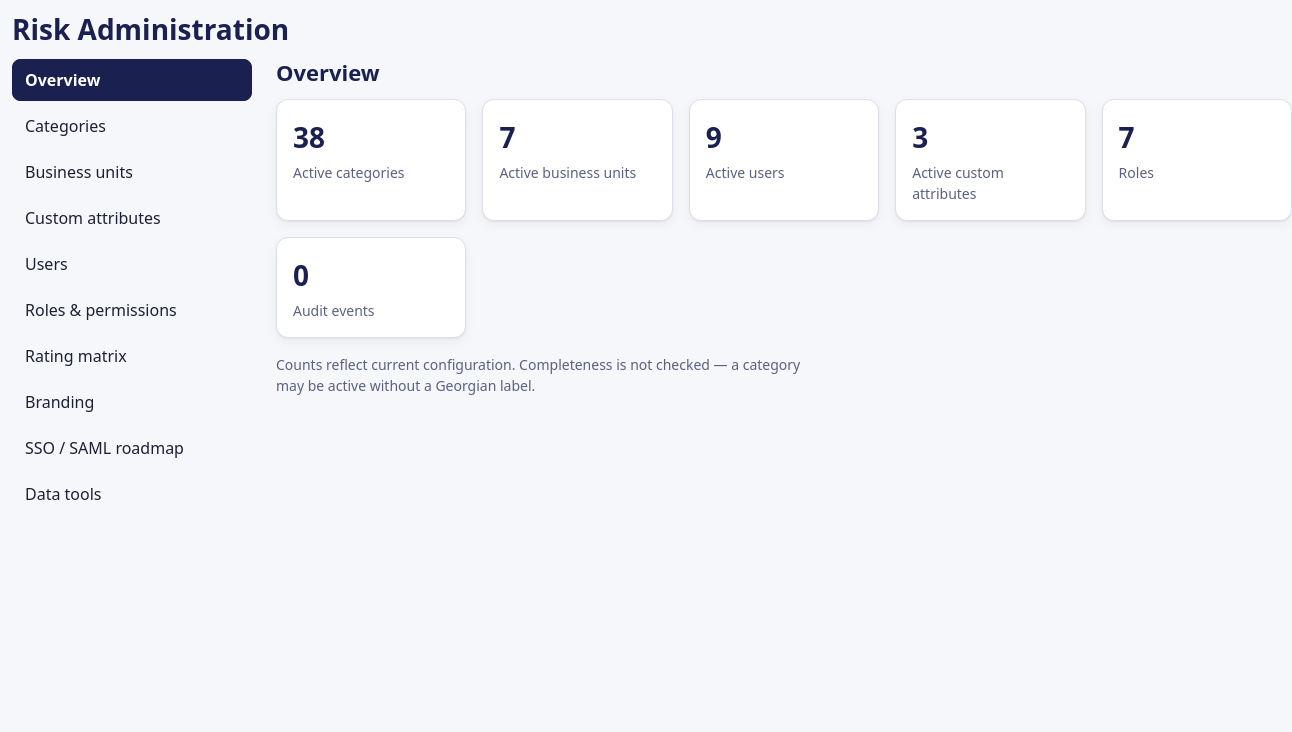
it: branding section › shows a placeholder until a logo is uploaded
Step 1. Click the button "Branding" → (132, 402), box [12,381,252,423]
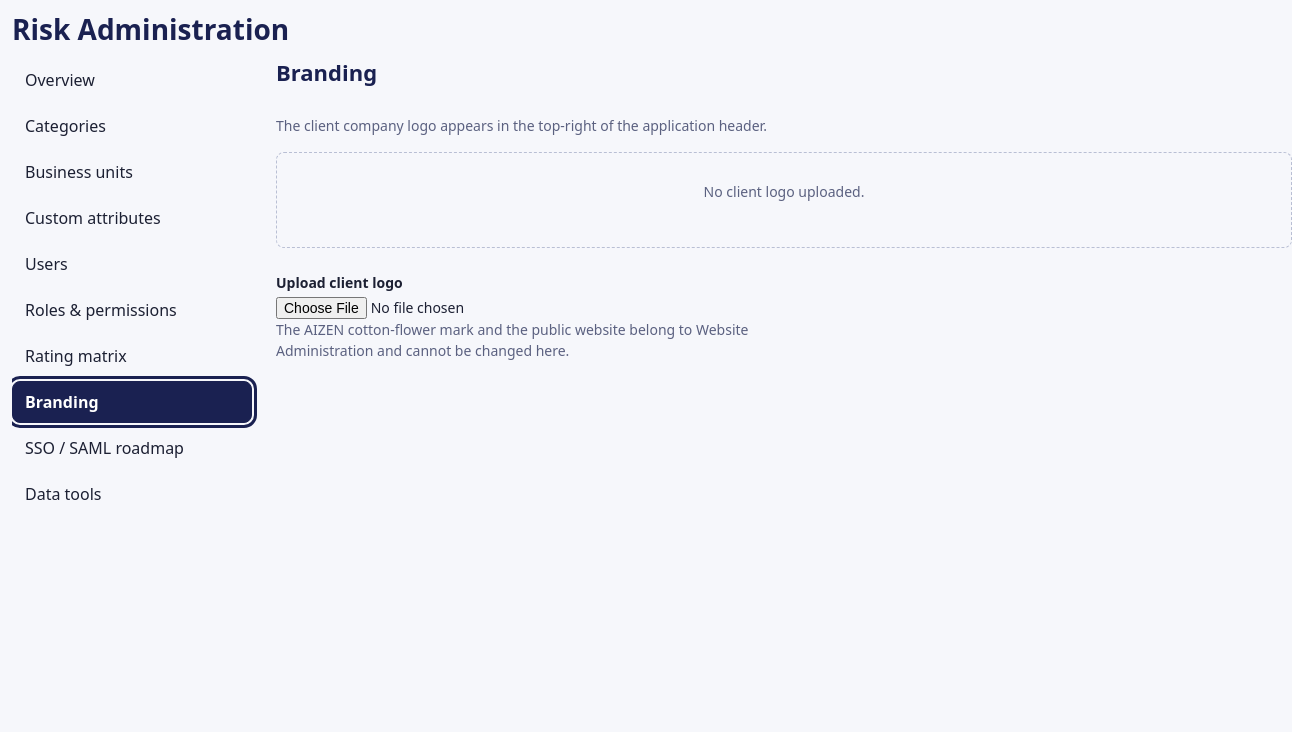
Now the text "No client logo uploaded." is shown, box [704,181,864,202]
